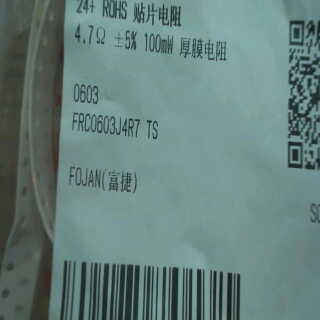4.7R: (70, 21, 108, 50)
